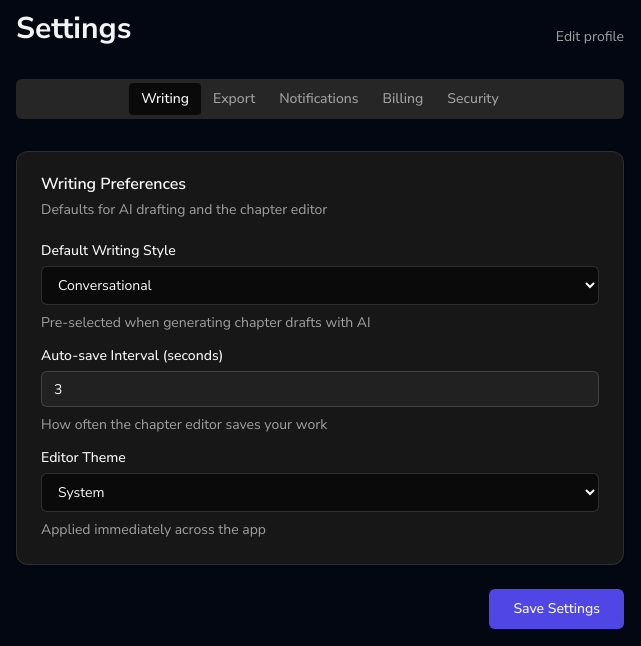
Test case: SettingsPage billing tab › hides the shared Save button on the Billing tab
expect the button "Save Settings" is enabled: met, box [489,589,624,629]
Click the tab "Billing": [403, 99] box [370,83,435,115]
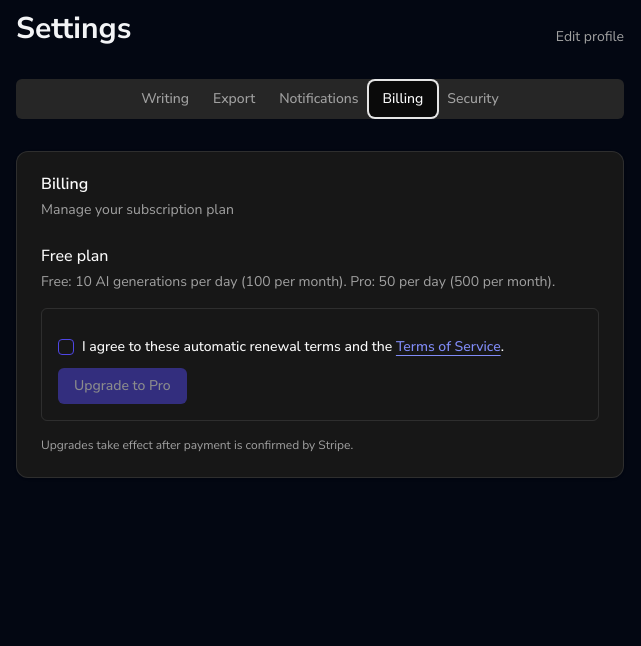
expect the button "Save Settings" is gone: met
